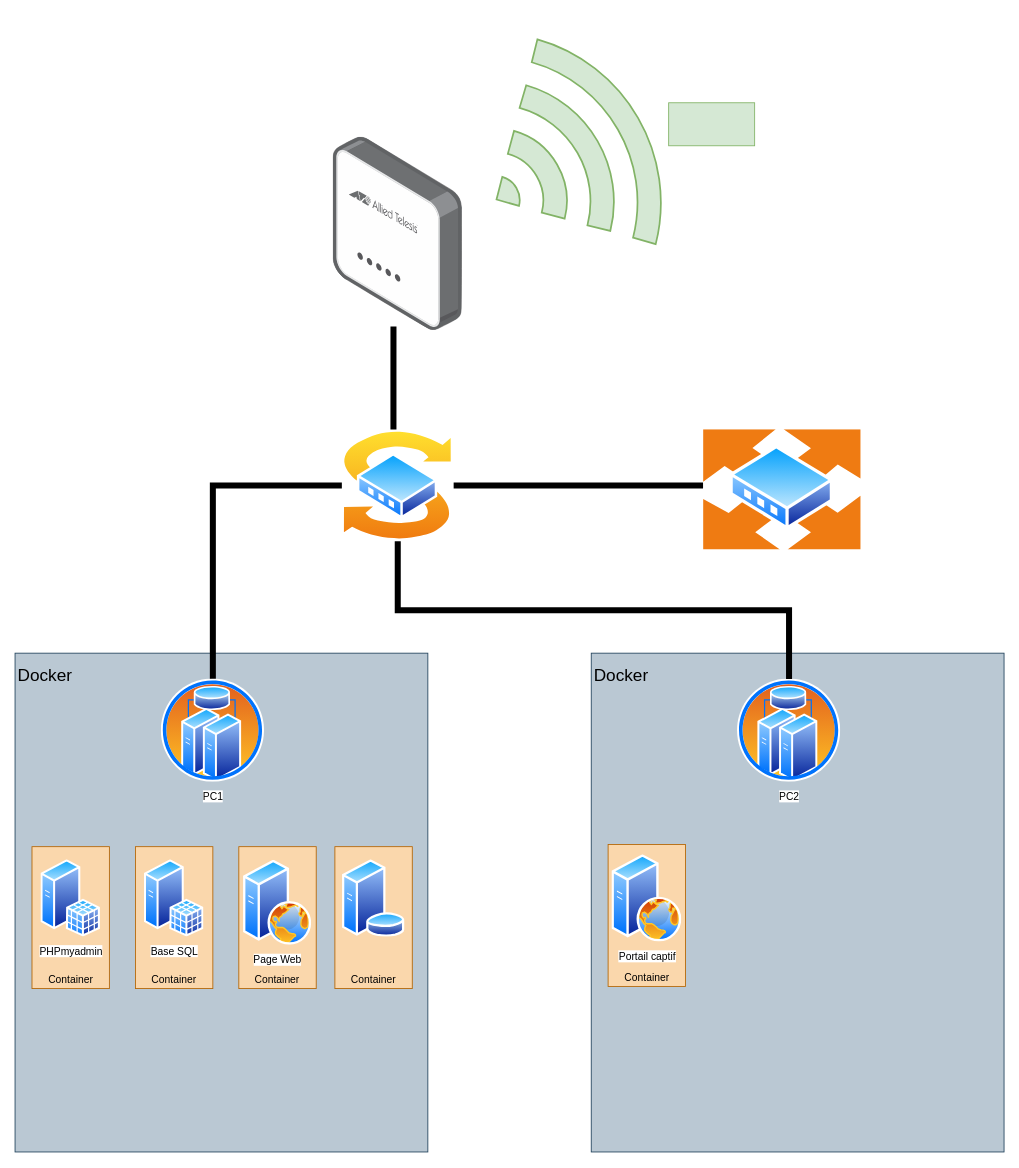
This 1019x1168 diagram has some shape labels left out. The shapes that lost their labels are listed below. From the top down, each one's centre as x and y in pixels, then its label:
At point (711, 124): "Wifi Invité".
At point (373, 898): "Asterisk".
